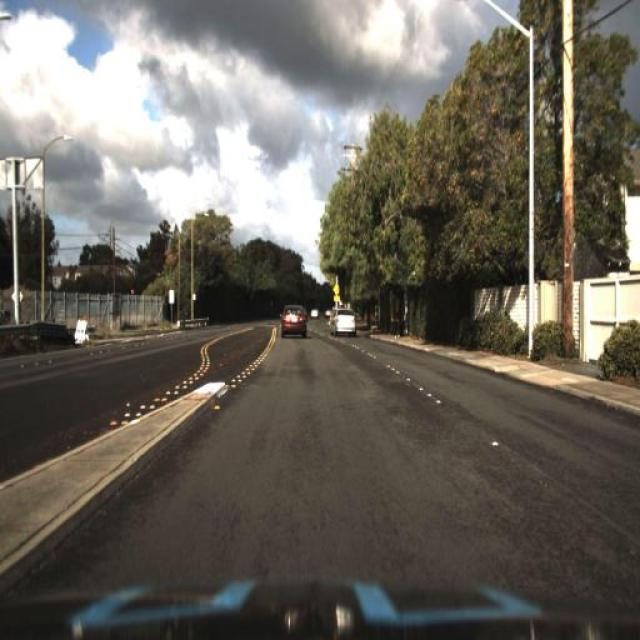car: (275, 298, 311, 342), (330, 304, 360, 340)
trafficLight: (392, 302, 402, 339)
